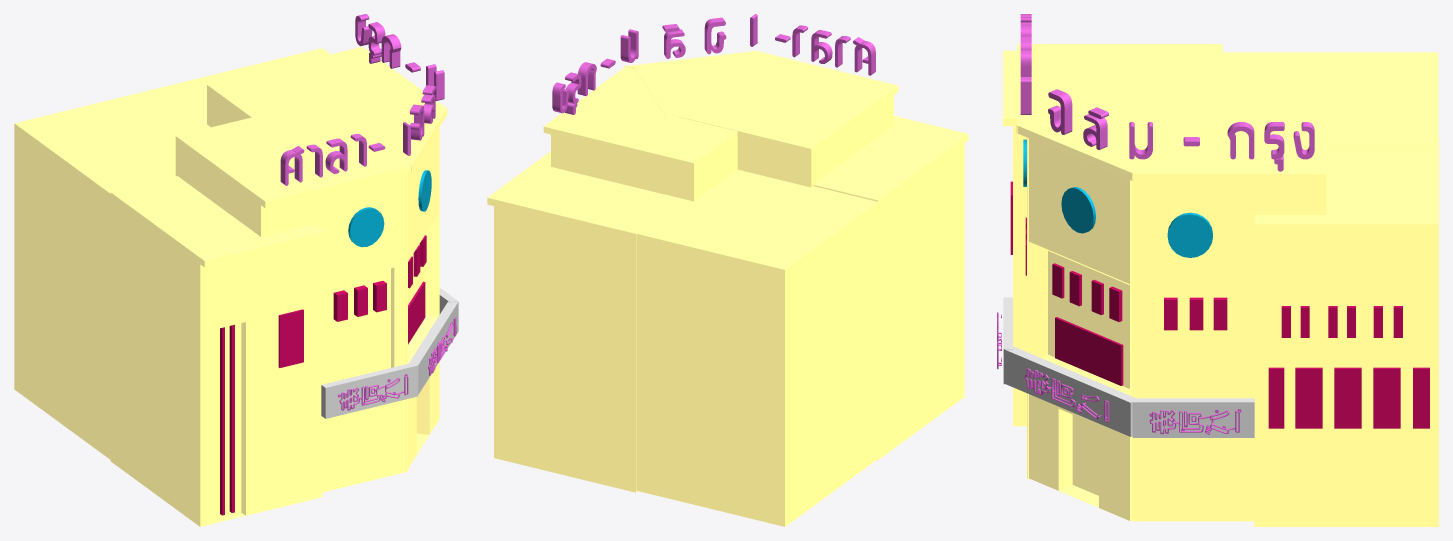
The model's file is Sala Chaloem Krung.glb.
The picture shows the model from 3 angles, left to right: view 1: azimuth 30°, elevation 25°; view 2: azimuth 150°, elevation 25°; view 3: azimuth 270°, elevation 25°; orthographic projection. The views are drawn at different scales.
Parts seen in each view (by area): view 1: pCube5, pCube10, pCube6, pCube7, pCube8, pCube2, typeMesh1, typeMesh2, pCube4, pCube22, pCube9, pCylinder3 (+4 smaller); view 2: pCube10, pCube9, pCube5, pCube6, pCube8, pCube7, typeMesh2, typeMesh1, typeMesh3; view 3: pCube9, pCube8, pCube7, pCube6, pCube10, pCube4, pCube5, pCube11, pCube34, typeMesh2, pCube29, pCube30 (+8 smaller).
Boxes of the visible parts, x1,y1,x2,y2 form: pCube5: (110, 176, 326, 526); pCube10: (14, 80, 210, 460); pCube6: (175, 100, 412, 492); pCube7: (312, 97, 447, 470); pCube8: (207, 46, 447, 314); pCube2: (321, 362, 418, 418); typeMesh1: (280, 122, 410, 185); typeMesh2: (355, 14, 444, 100); pCube4: (409, 301, 458, 394); pCube22: (278, 309, 303, 367); pCube9: (190, 48, 330, 92); pCylinder3: (348, 207, 384, 247); pCube10: (616, 169, 879, 526); pCube9: (487, 151, 662, 492); pCube5: (813, 116, 968, 460); pCube6: (669, 51, 898, 187); pCube8: (543, 67, 737, 201); pCube7: (625, 50, 756, 118); typeMesh2: (552, 29, 638, 114); typeMesh1: (750, 14, 875, 75); typeMesh3: (662, 17, 726, 58); pCube9: (1254, 138, 1438, 526); pCube8: (1132, 87, 1326, 521); pCube7: (1016, 120, 1231, 520); pCube6: (1017, 44, 1222, 479); pCube10: (1222, 52, 1438, 150); pCube4: (1004, 346, 1135, 436); pCube5: (1003, 50, 1026, 426); pCube11: (1132, 398, 1254, 437); pCube34: (1055, 317, 1123, 385); typeMesh2: (1129, 122, 1314, 171); pCube29: (1373, 367, 1400, 428); pCube30: (1334, 367, 1361, 428).
Size of the model in its own units: 12.42 by 13.23 by 13.22.
